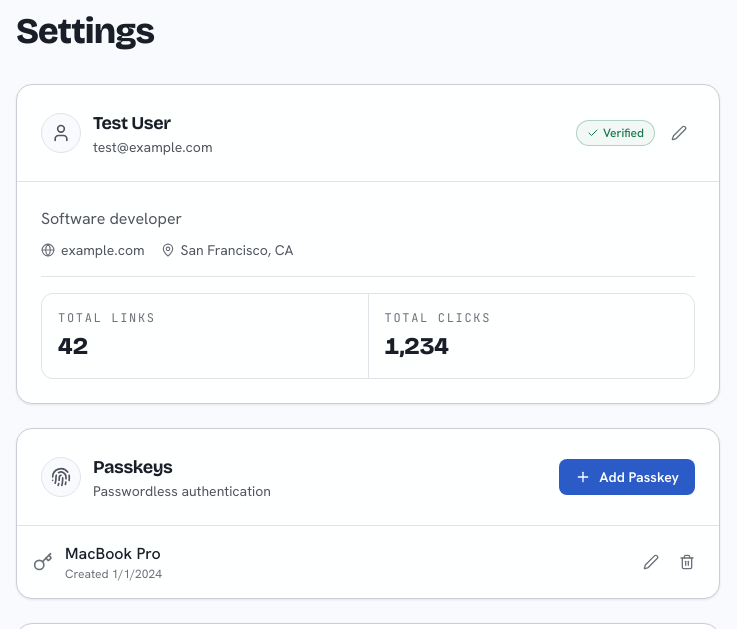
Scenario: Settings account correctness › Edit profile › sends an empty string for every field the user cleared
Click the button named "Edit profile". click: [679, 133]
box: [663, 117, 695, 149]
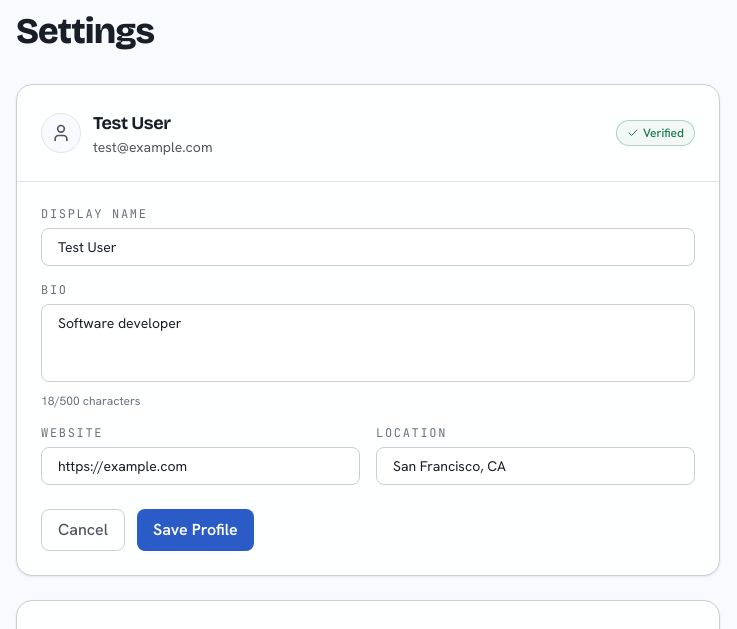
Now the field labelled "Display Name" is shown
Now the field labelled "Display Name" is not empty
Clear the field labelled "Display Name". click: [368, 247]
box: [41, 228, 695, 266]
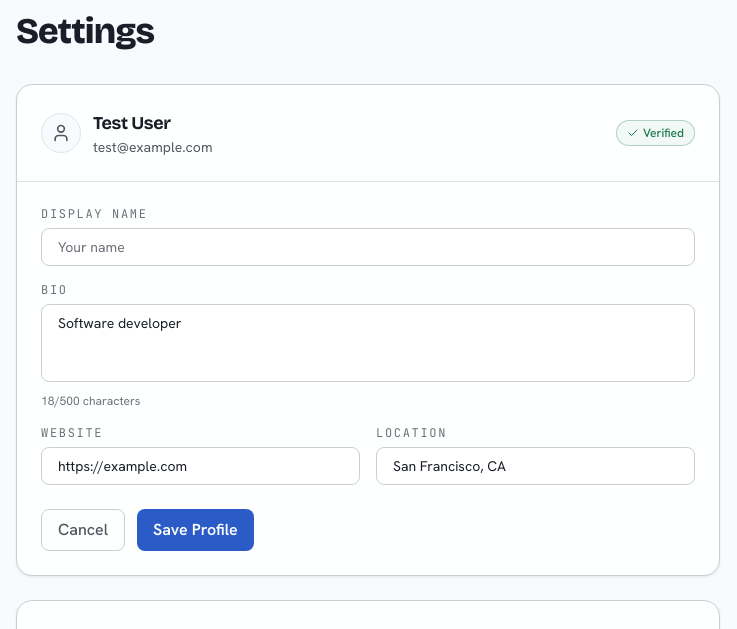
Now the text box with id "bio" is not empty
Clear the text box with id "bio". click: [368, 343]
box: [41, 304, 695, 382]
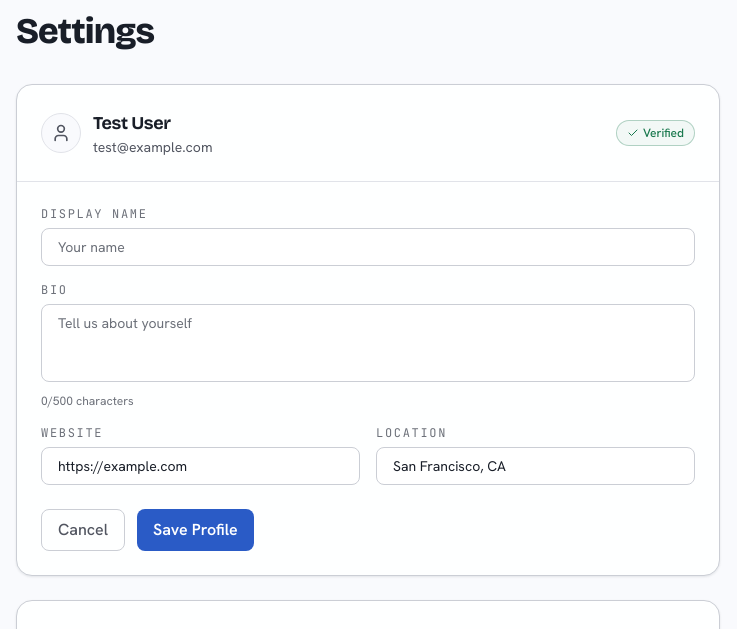
Now the field with id "website" is not empty
Clear the field with id "website". click: [200, 466]
box: [41, 447, 360, 485]
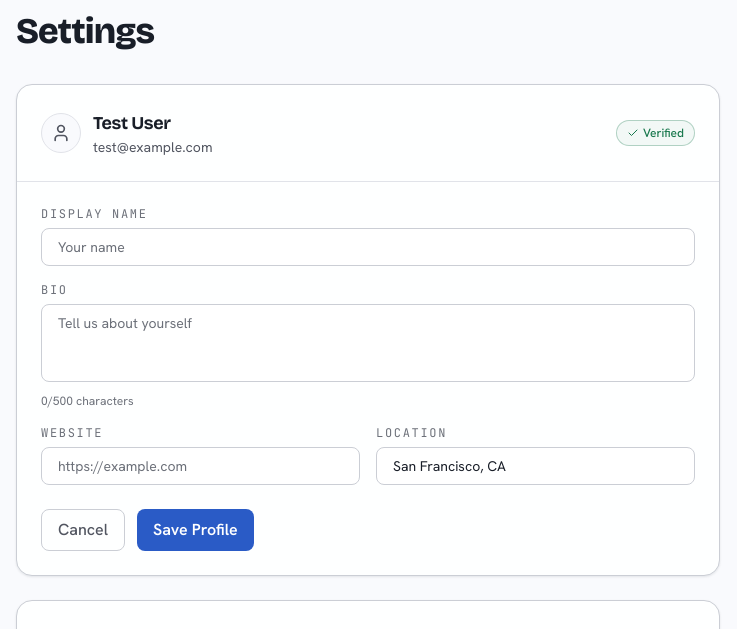
Now the field with id "location" is not empty
Clear the field with id "location". click: [536, 466]
box: [376, 447, 695, 485]
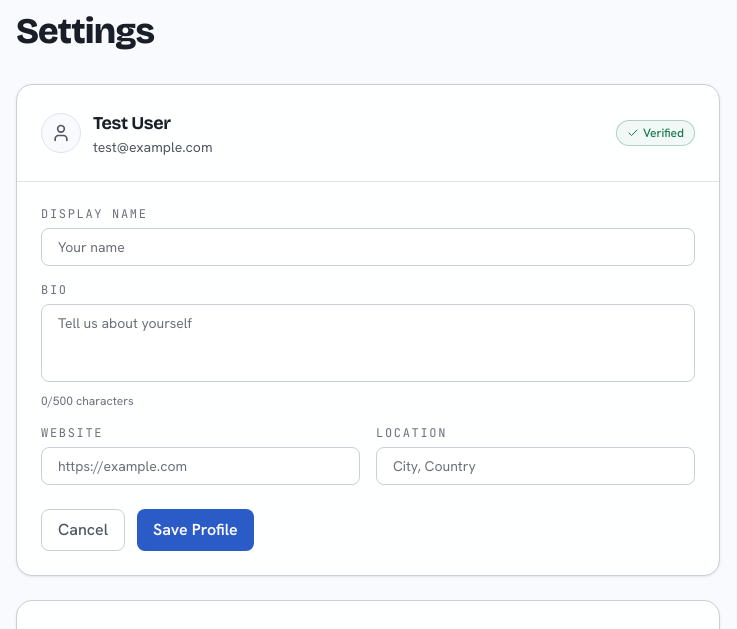
Click the button "Save Profile". click: [195, 530]
box: [137, 509, 254, 551]
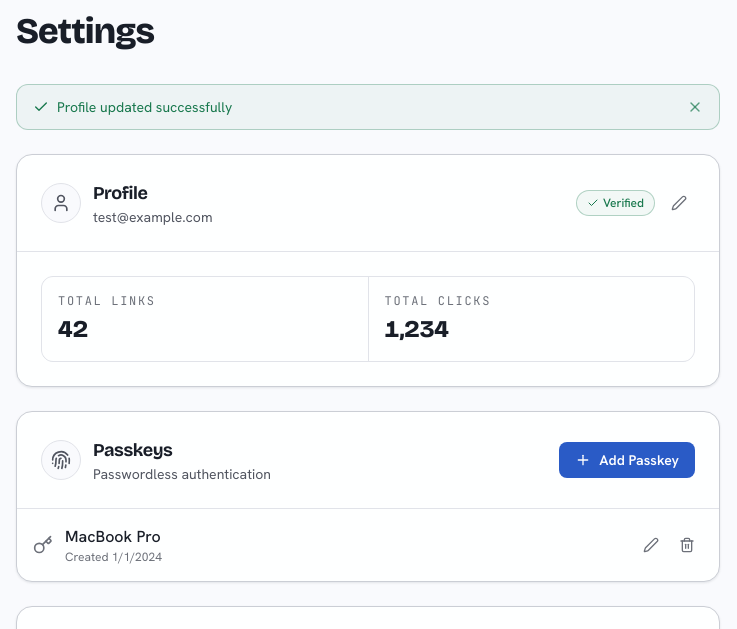
Now the text "Profile updated successfully" is shown, box [16, 84, 720, 130]
